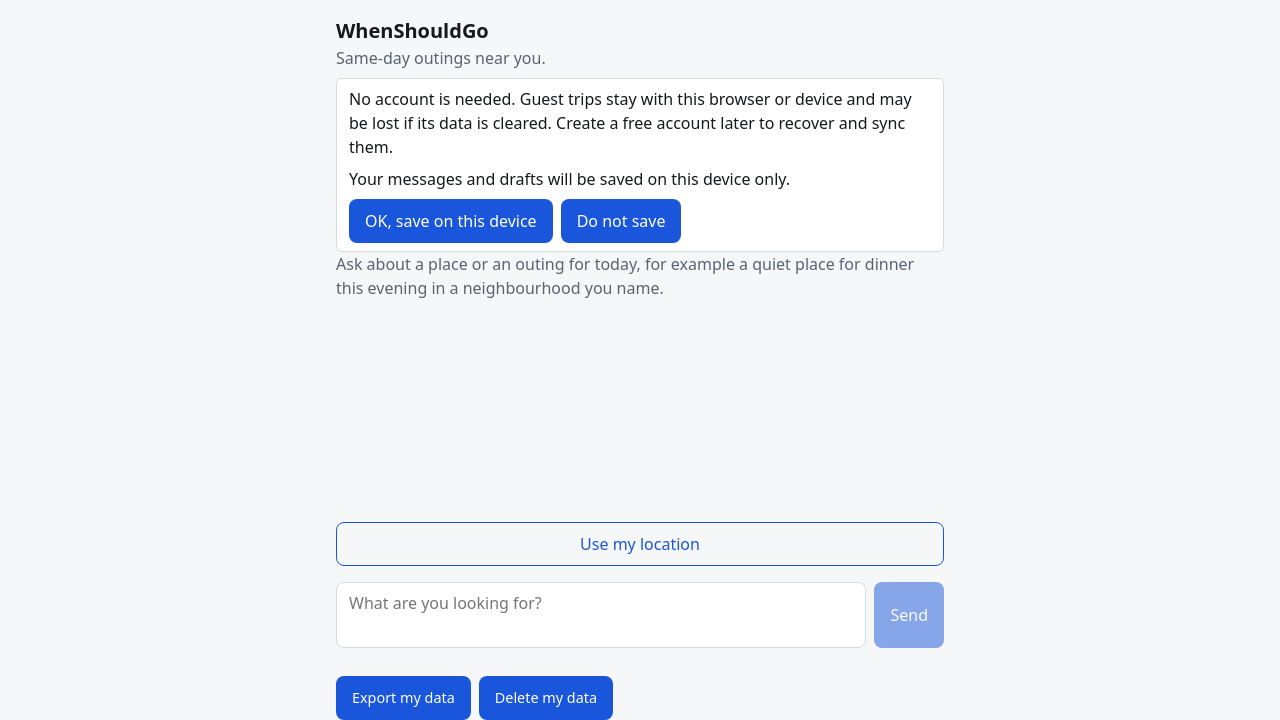
local-first chat › canary: no Maps content or coordinates reach IndexedDB after a full flow with location
Click the button "OK, save on this device": (451, 221) [349,199,553,243]
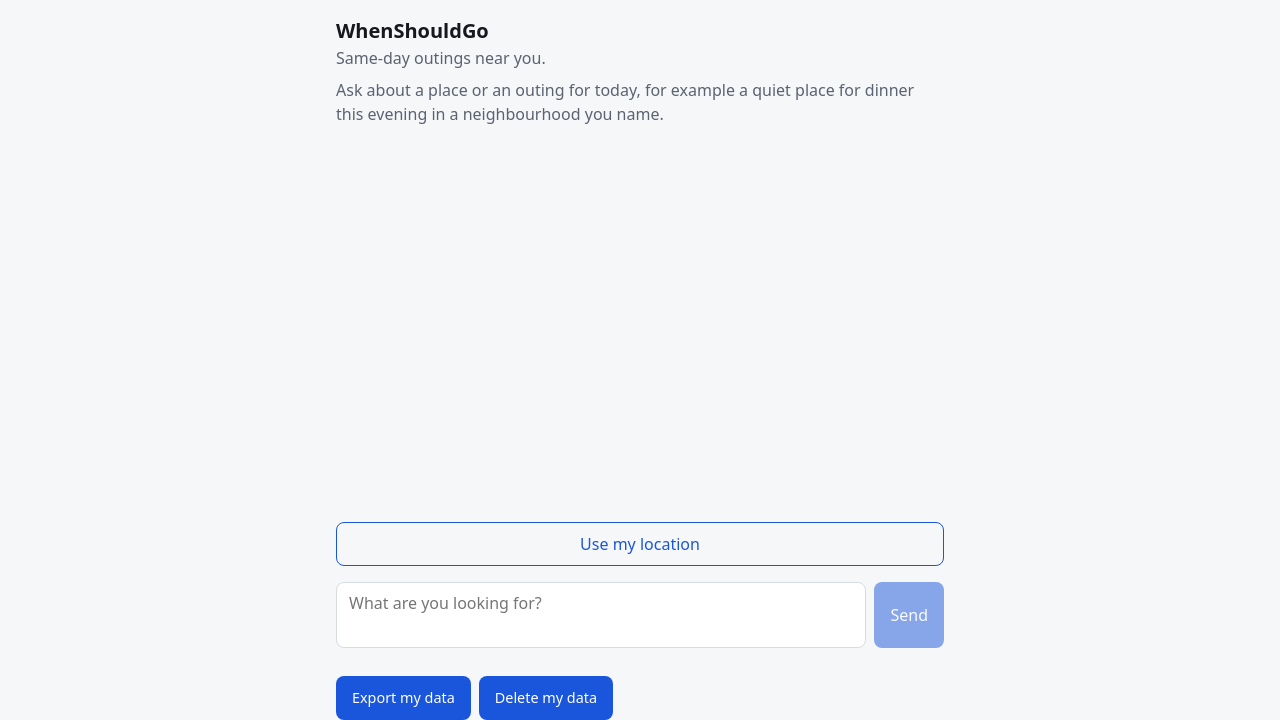
Click the button "Use my location": (640, 544) [336,522,944,566]
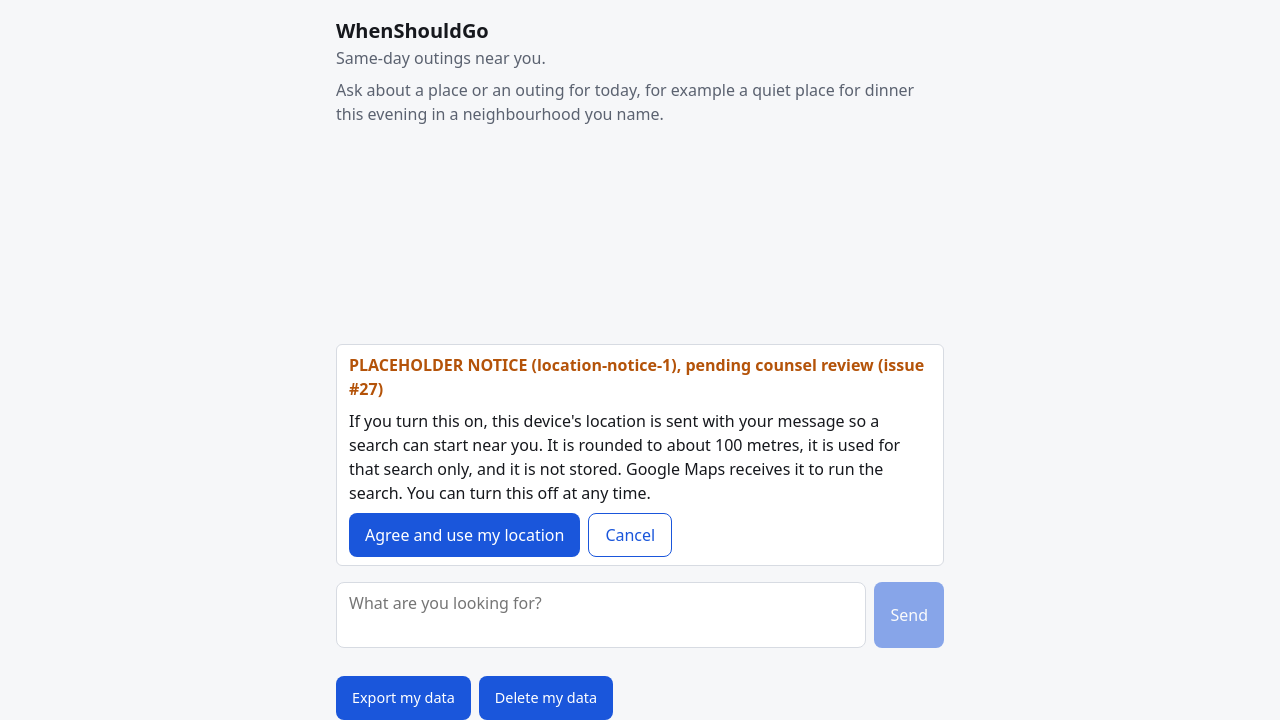
Click the button "Agree and use my location": (465, 535) [349,513,580,557]
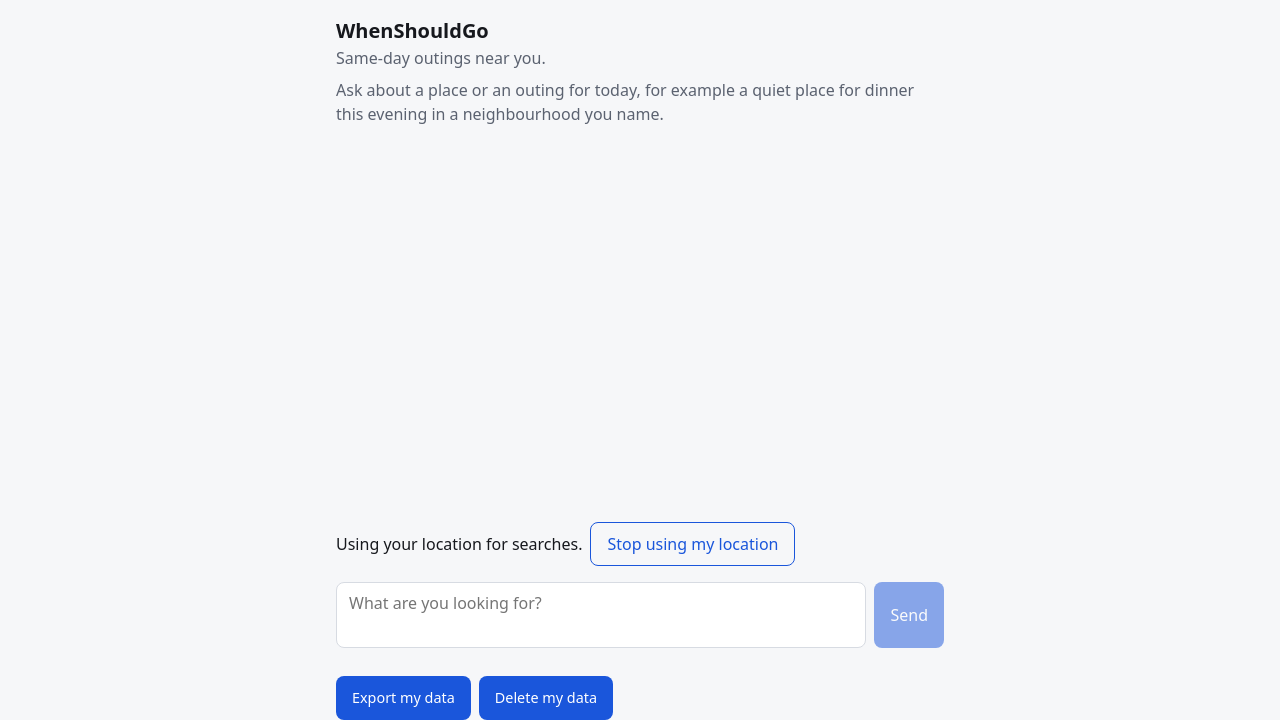
Expected: the button "Stop using my location" is shown, [590,522,795,566]
In the text box named "Your message": (601, 615) [336,582,866,648], type "quiet dinner near me"
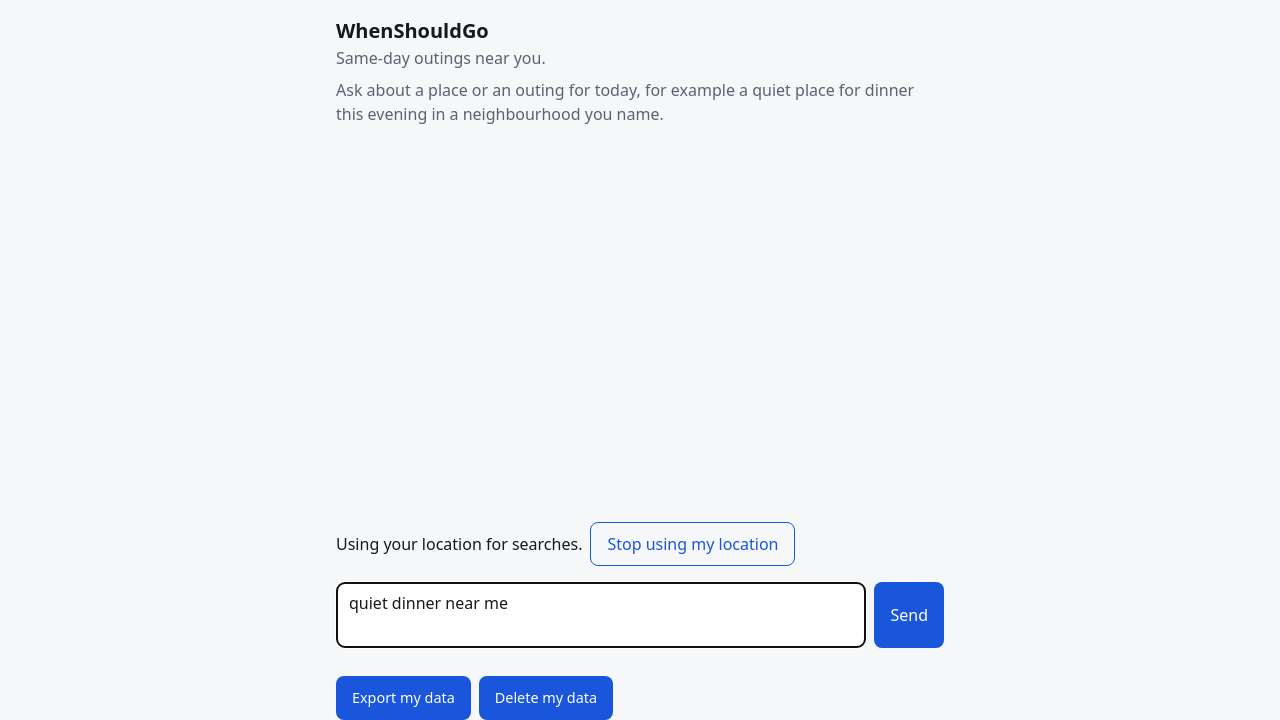
Click the button "Send": (909, 615) [874,582,944,648]
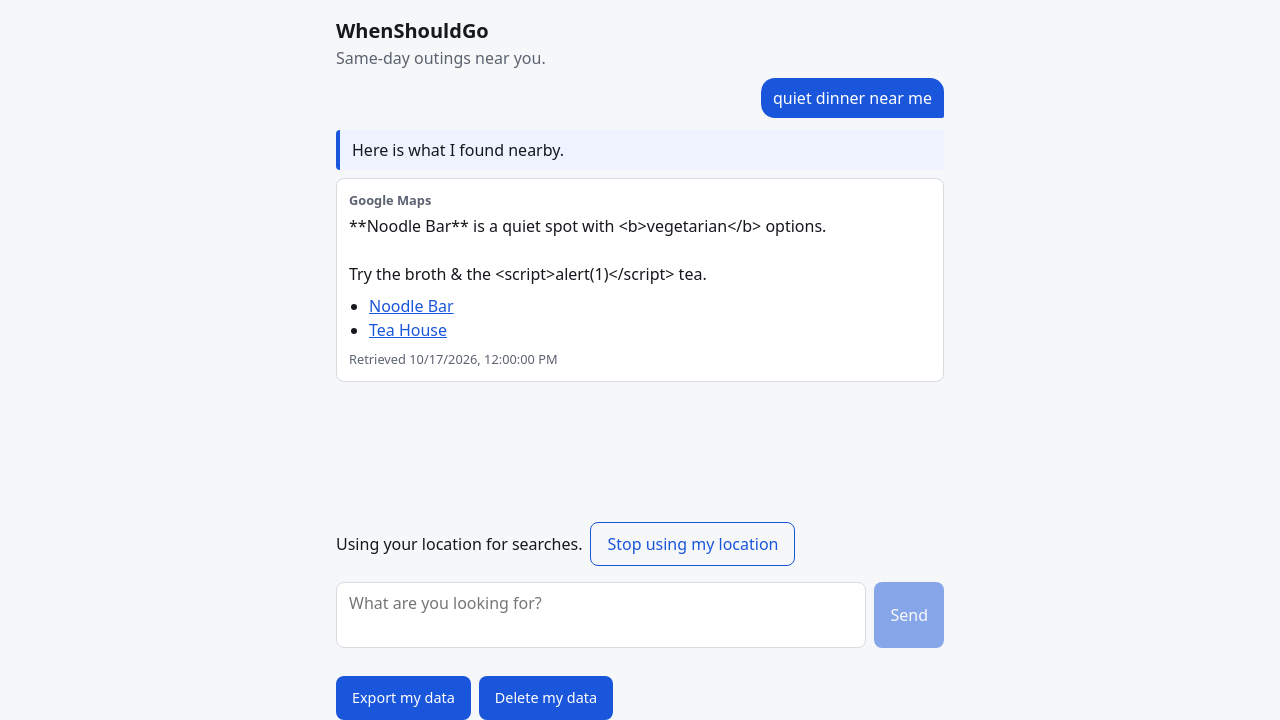
Expected: the text "Here is what I found nearby." is shown, [336,130,944,170]
Expected: the text "Noodle Bar" is shown, [349,215,826,285]
